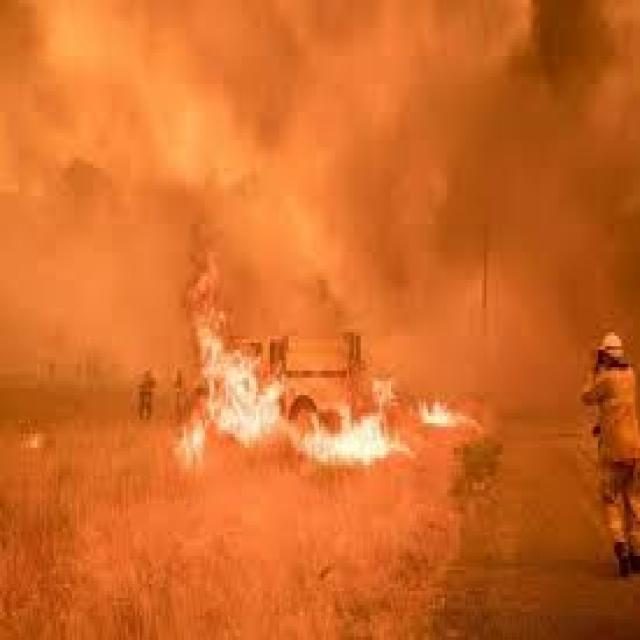Fire: (204, 348, 462, 484)
Smoke: (0, 0, 640, 353)
